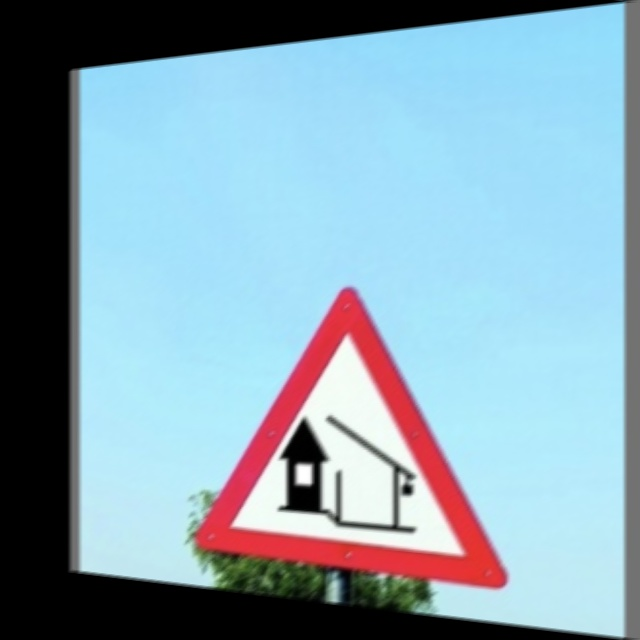Barrier_Ahead: (194, 287, 511, 590)
